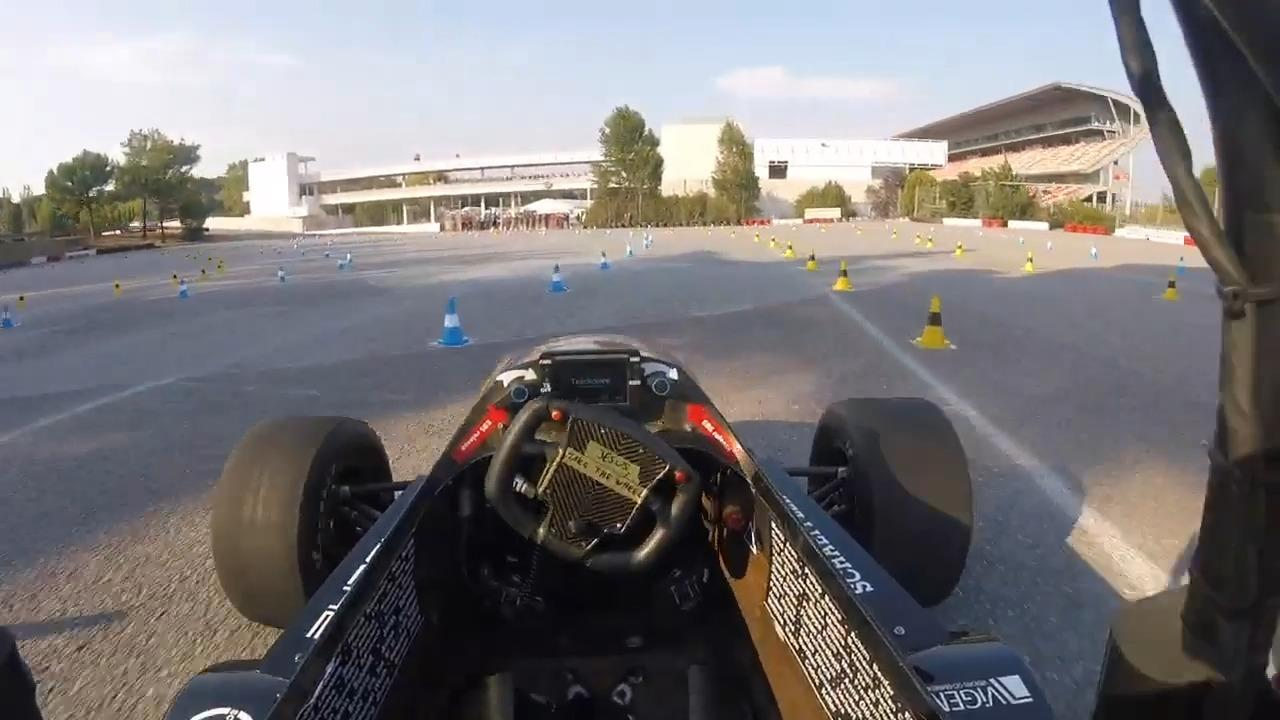blue_cone: (433, 296, 468, 349), (545, 262, 570, 295), (1, 301, 20, 326), (599, 249, 613, 274), (1174, 255, 1187, 279), (1088, 243, 1102, 262), (176, 278, 188, 300), (336, 257, 347, 277), (624, 242, 636, 259), (276, 265, 285, 285), (346, 248, 355, 266)
yellow_cone: (912, 296, 952, 351), (1158, 272, 1181, 301), (833, 262, 853, 292), (805, 250, 823, 270), (783, 242, 798, 261), (1023, 251, 1037, 271), (112, 279, 125, 298), (17, 293, 28, 315), (955, 239, 965, 259), (169, 270, 180, 288), (926, 234, 936, 250), (200, 266, 210, 281), (913, 230, 922, 246), (770, 234, 779, 249), (892, 227, 899, 240), (754, 231, 761, 243)
